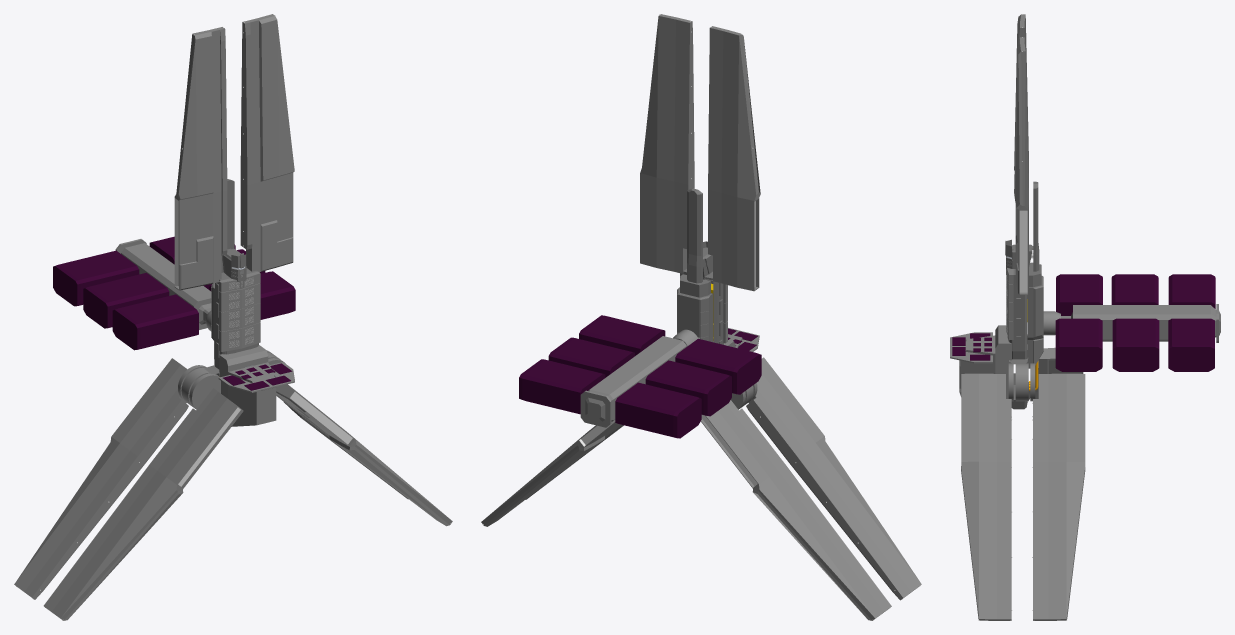
Rendered from Harper_Version10.fbx.
The picture shows the model from 3 angles, left to right: view 1: azimuth 30°, elevation 25°; view 2: azimuth 150°, elevation 25°; view 3: azimuth 270°, elevation 25°; orthographic projection. The views are drawn at different scales.
Parts seen in each view (by area): view 1: Cube.004, Cube.005, Cube.180, Cube.181, Cube.025, Cube.179, Cube.029, Cube.182, Cube.023, Cube.024, Cube.008, Cube.002 (+3 smaller); view 2: Cube.005, Cube.004, Cube.180, Cube.181, Cube.002, Cube.023, Cube.008, Cube.022, Cube.024, Cube.025, Cube.178, Cube.019 (+1 smaller); view 3: Cube.178, Cube.179, Cube.002, Cube.004, Cube.008, Cube.019, Cube.021, Cube.022, Cube.025, Cube.182, Cube.023, Cube.024 (+6 smaller).
Part boxes in pixels (x1,y1,x2,y2): Cube.004: (240,14,294,272); Cube.005: (174,27,227,290); Cube.180: (43,388,243,620); Cube.181: (14,358,188,599); Cube.025: (112,294,198,350); Cube.179: (276,384,452,526); Cube.029: (219,271,260,351); Cube.182: (219,345,276,426); Cube.023: (53,250,139,306); Cube.024: (83,272,169,328); Cube.008: (115,239,211,329); Cube.002: (204,179,258,375); Cube.005: (708,26,760,291); Cube.004: (640,14,694,273); Cube.180: (746,357,921,600); Cube.181: (700,400,891,620); Cube.002: (677,188,723,344); Cube.023: (615,382,701,438); Cube.008: (580,336,686,427); Cube.022: (519,359,605,414); Cube.024: (645,360,731,416); Cube.025: (675,338,761,394); Cube.178: (481,420,620,526); Cube.019: (579,315,665,355); Cube.178: (1033,373,1085,620); Cube.179: (961,373,1011,620); Cube.002: (1005,181,1043,409); Cube.004: (1014,37,1028,294); Cube.008: (1061,304,1220,342); Cube.019: (1055,318,1102,371); Cube.021: (1112,318,1159,371); Cube.022: (1168,318,1214,371); Cube.025: (1056,274,1102,315); Cube.182: (961,325,1011,398); Cube.023: (1168,274,1215,308); Cube.024: (1111,274,1158,304).
Bounding box in the file's own units: 343348 × 444528 × 217666.
